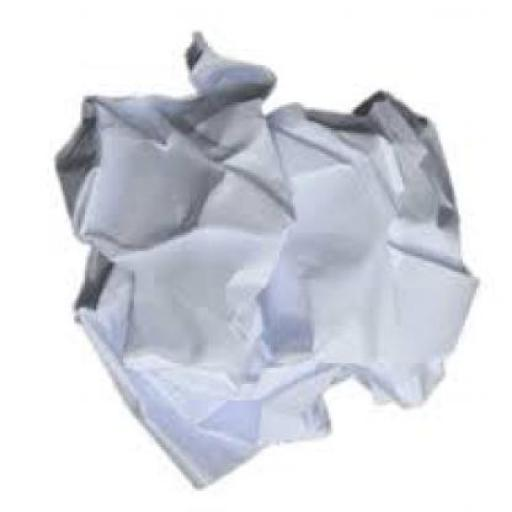paper: (59, 35, 483, 493)
